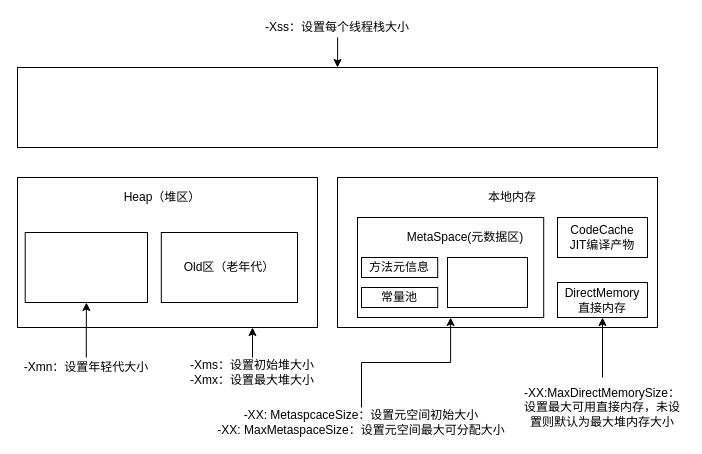
This 702x454 diagram has some shape labels left out. Here are the shapes that lost their labels. From the top down, the centre of each, then its label:
the point at 337,107: JVM Stacks（虚拟机栈）
the point at 86,267: Young区（年轻代）
the point at 487,282: 类元信息
